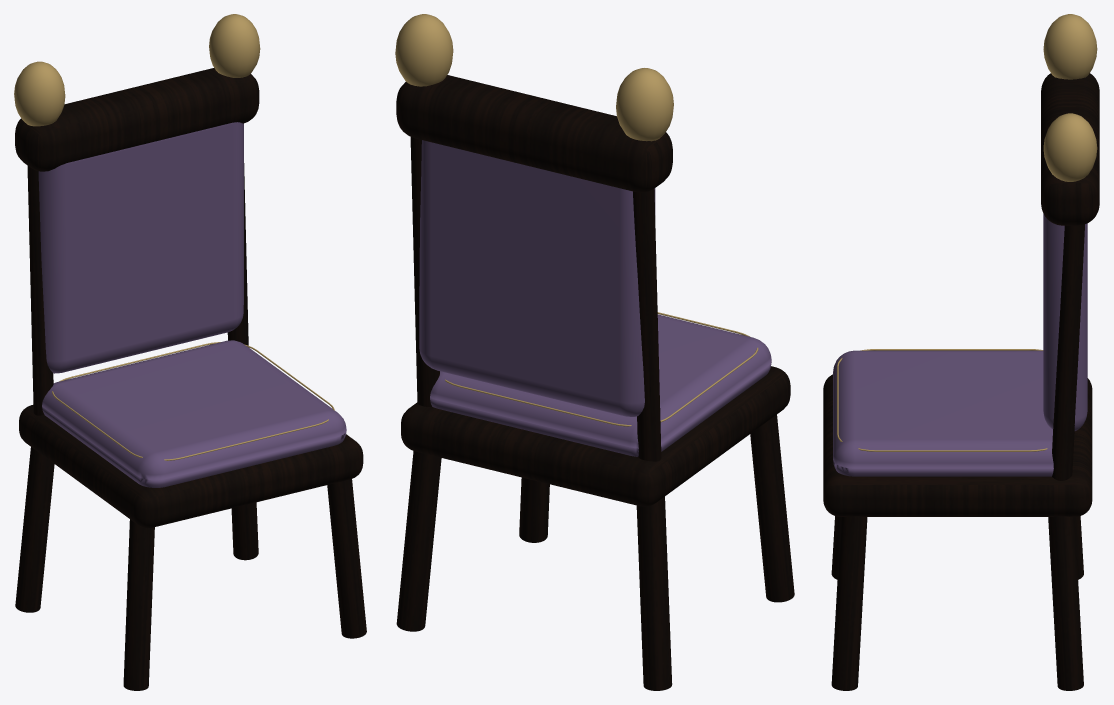
Rendered from chair.glb.
3 views of the same model, side by side, from view 1: azimuth 30°, elevation 25°; view 2: azimuth 150°, elevation 25°; view 3: azimuth 270°, elevation 25° (orthographic). The views are drawn at different scales.
Parts seen in each view (by area): view 1: wizards-workshop chair; view 2: wizards-workshop chair; view 3: wizards-workshop chair.
Boxes of the visible parts, box(x1,y1,x2,y2) form: wizards-workshop chair: box(14, 14, 366, 690); wizards-workshop chair: box(395, 14, 794, 690); wizards-workshop chair: box(823, 14, 1099, 690).
Bounding box in the file's own units: 0.591 × 1.28 × 0.565.
Materials: 3 (1 with a texture image).
